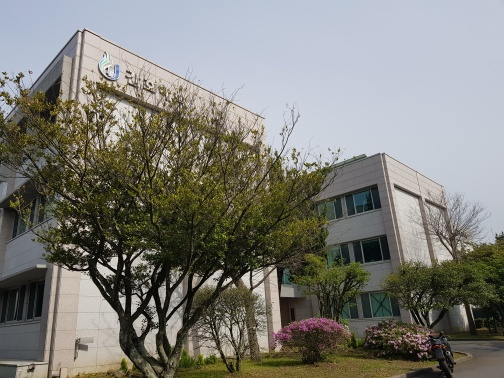College of Nursing: (23, 46, 473, 322)
